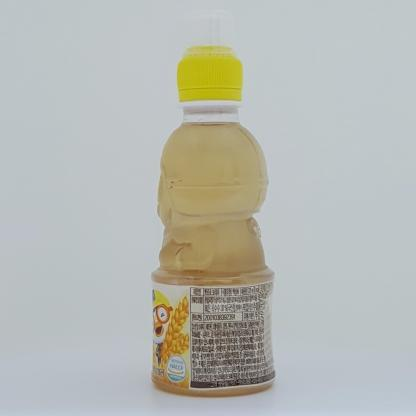--------220ML: (150, 10, 276, 397)
